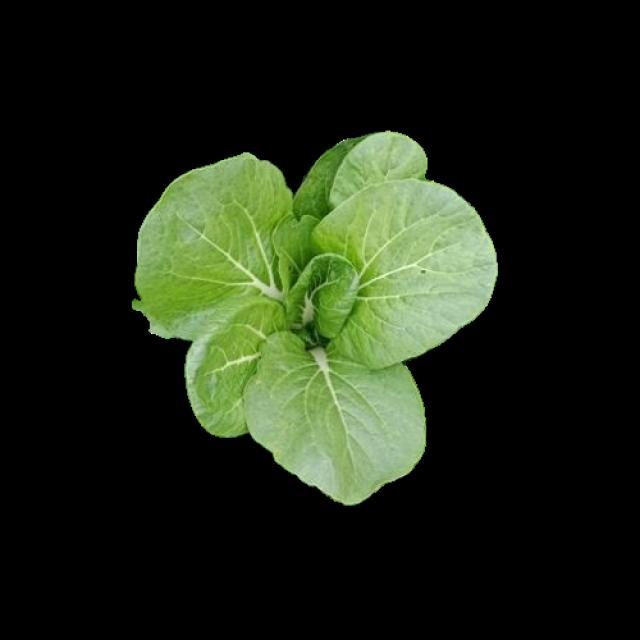healthy: (136, 131, 492, 503)
mature: (138, 133, 494, 506)
